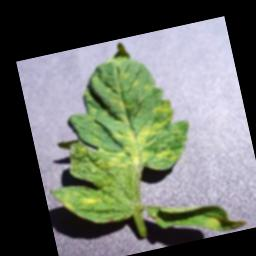Leaf_Mold: (24, 32, 207, 234)
